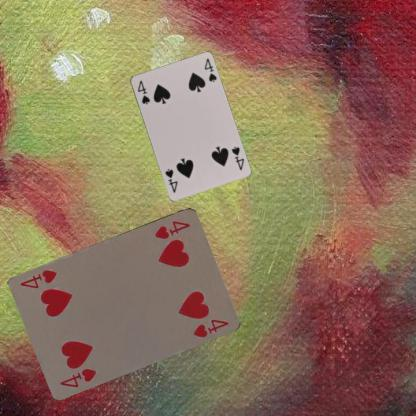4h: (58, 365, 99, 388), (151, 218, 192, 240)
4s: (134, 77, 150, 106), (229, 143, 245, 172)
